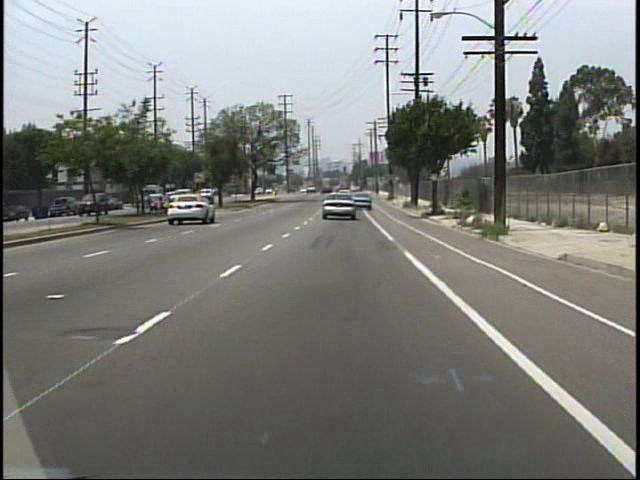person: (93, 192, 103, 212)
